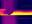Hotspot: (10, 11, 31, 15)
